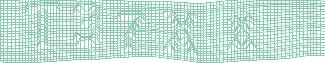3: (71, 1, 102, 50)
7: (115, 9, 146, 54)
T: (24, 1, 62, 52)
X: (160, 8, 200, 60)
x: (225, 14, 259, 52)
